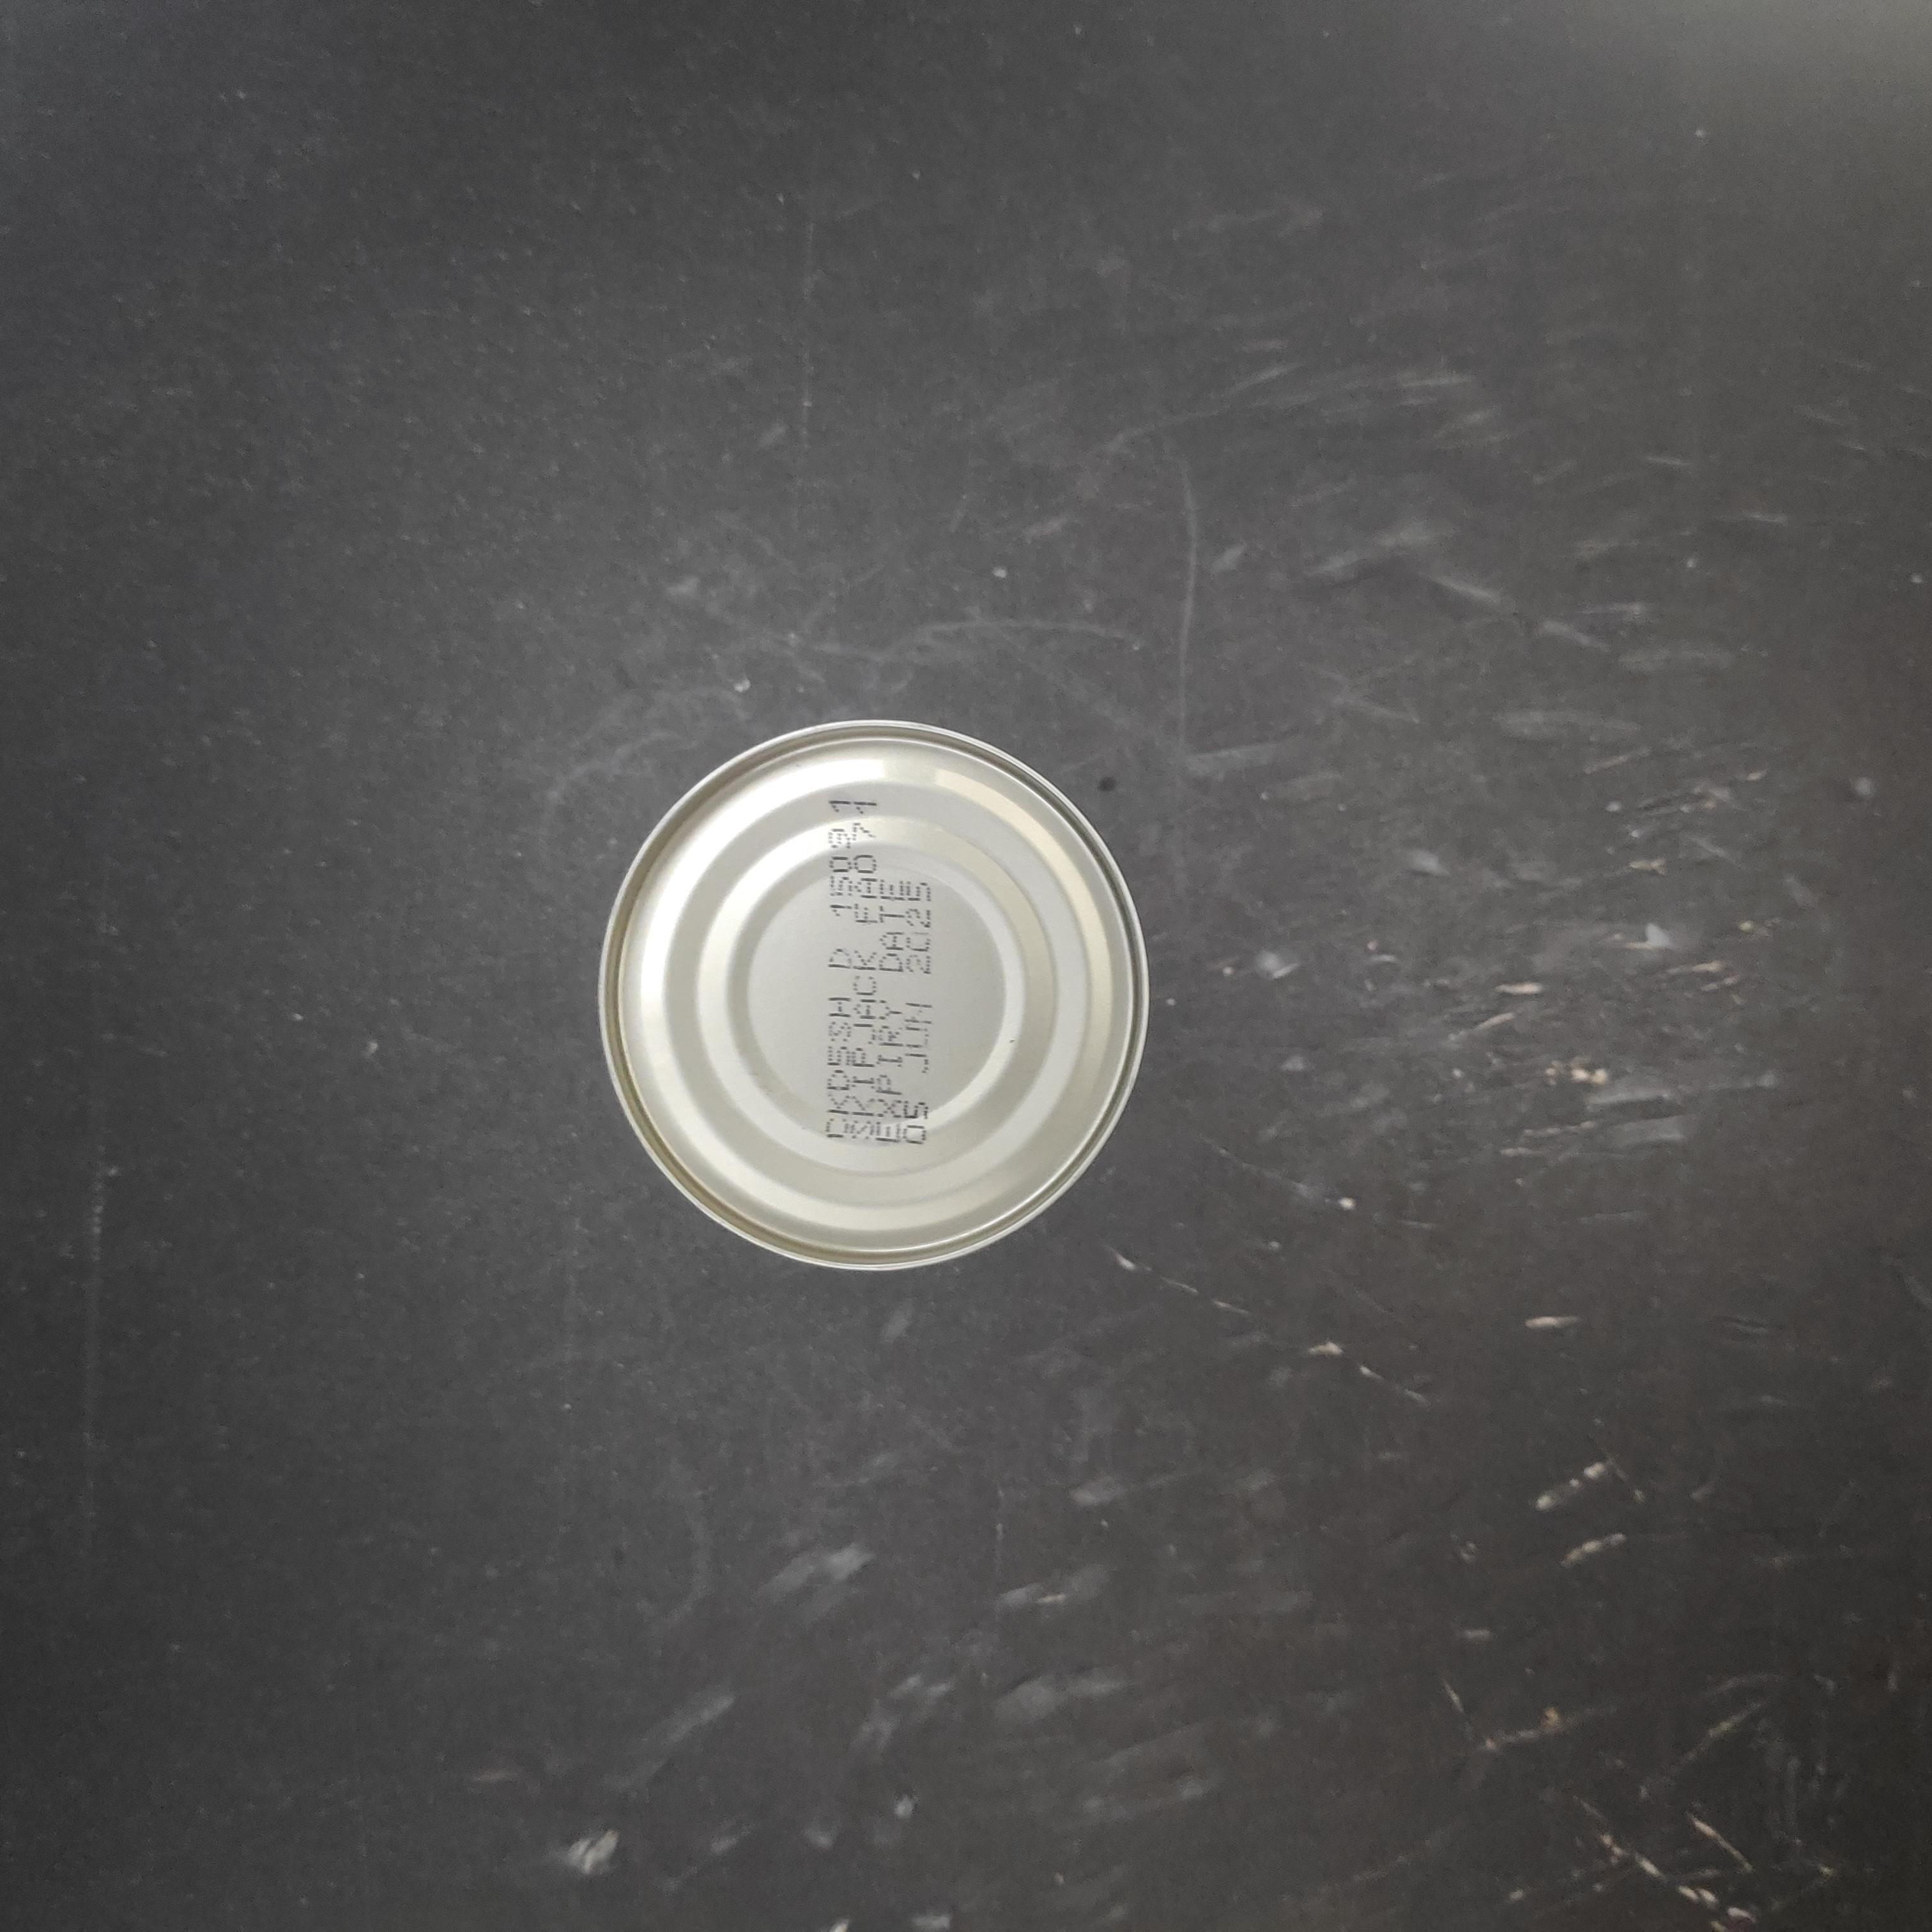No defect: (780, 660, 1338, 1215)
